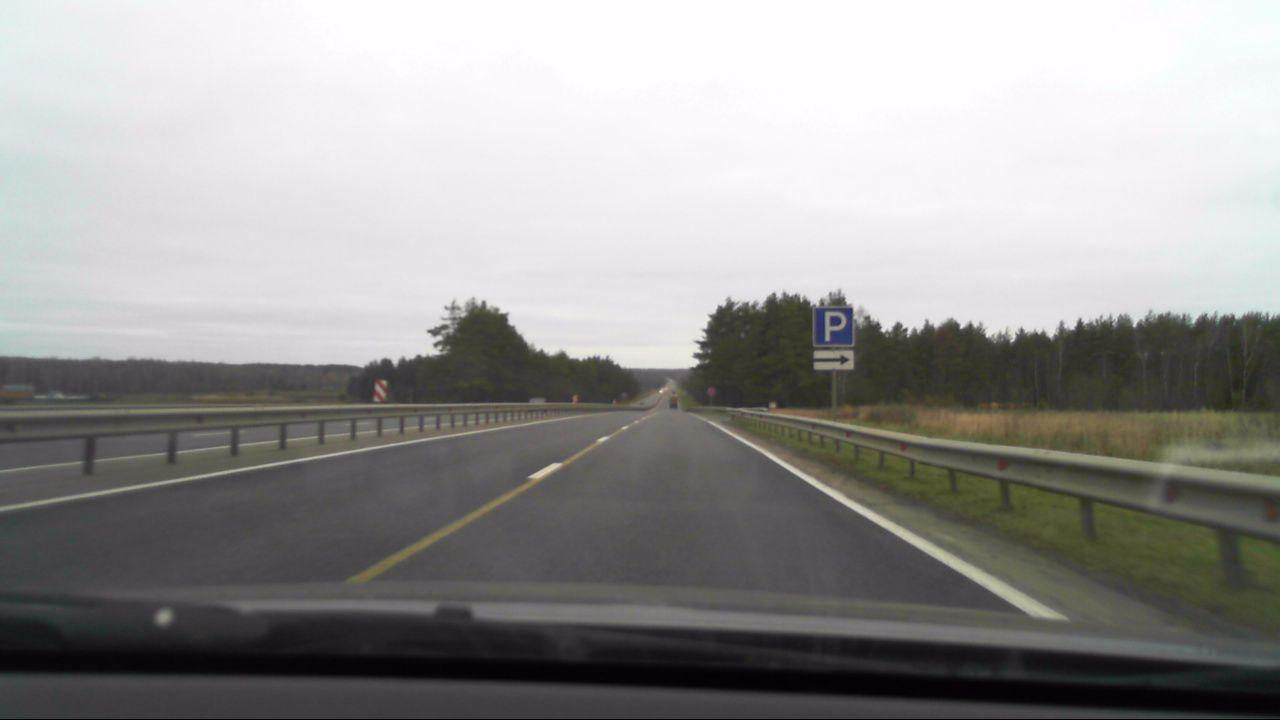6_4: (811, 301, 856, 346)
8_22_1: (371, 379, 390, 406)
8_3_1: (812, 350, 854, 372)
